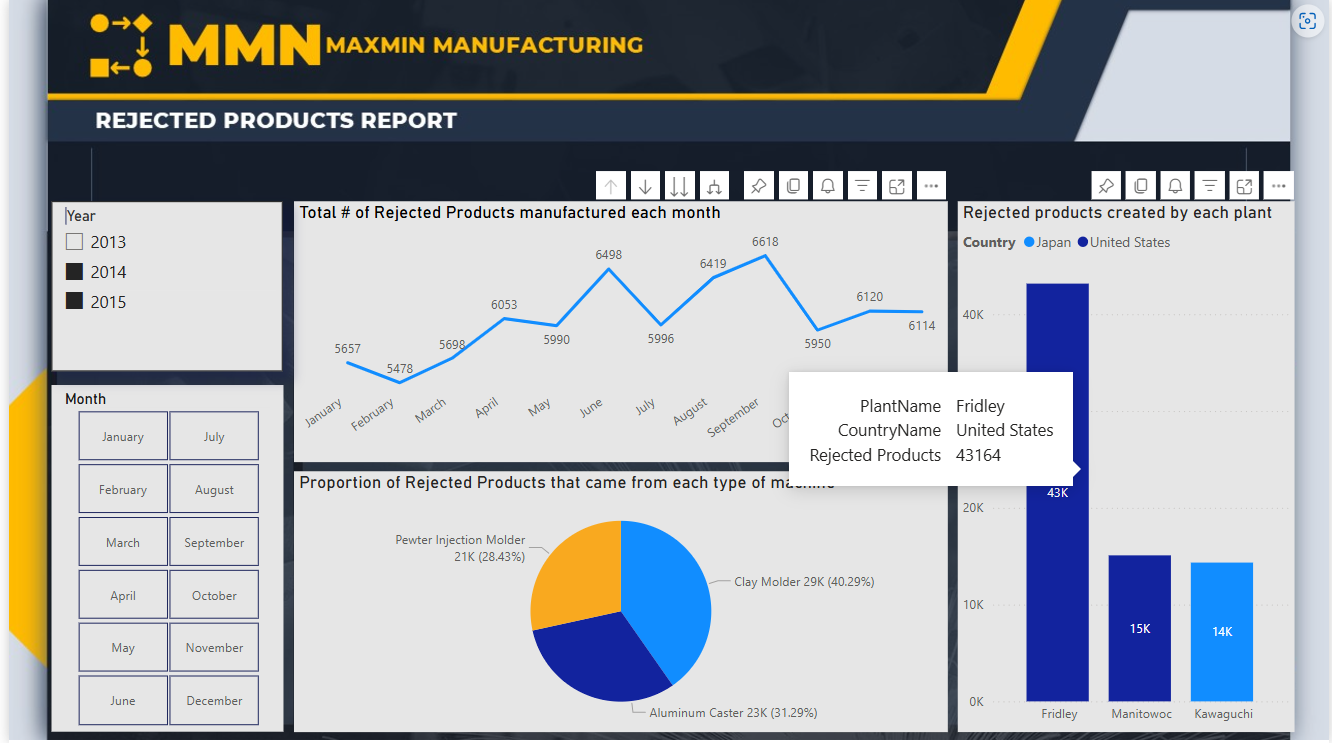

The dashboard page shown, as its layout file describes it:
{"tool":"powerbi","page":{"name":"Page 1","canvas":[1280,720],"ordinal":0},"visuals":[{"type":"columnChart","title":"Rejected products created by each plant ","fields":{"Category":["DimPlant.PlantName"],"Y":["Sum(FactManufacturing.RejectedProducts)"],"Series":["DimCountry.CountryName"]},"box":[919.4,194.9,326.6,514.6],"z":0},{"type":"lineChart","title":"Total # of Rejected Products manufactured each month","fields":{"Y":["Sum(FactManufacturing.RejectedProducts)"],"Category":["Date.Year Hierarchy.Month Name","Date.Year Hierarchy.Day"]},"box":[275.8,194.9,634,252.5],"z":1000},{"type":"slicer","fields":{"Values":["Date.Year Hierarchy.Month Name"]},"box":[41.2,373.2,225,336.2],"z":2000},{"type":"slicer","fields":{"Values":["Date.Year Hierarchy.Year"]},"box":[41.2,194.9,223.7,164.7],"z":3000},{"type":"pieChart","title":"Proportion of Rejected Products that came from each type of machine","fields":{"Category":["DimMachineType.MachineType"],"Y":["Sum(FactManufacturing.RejectedProducts)"]},"box":[275.8,456.9,634,252.5],"z":4000}]}

Visuals, with their boxes on the page's 1280x720 design canvas (x1, y1, x2, y2). These are canvas units, not pixel positions in the 1332x743 screenshot, which may show the page scaled, cropped or inside an application window:
"Rejected products created by each plant " columnChart: 919,195,1246,710
"Total # of Rejected Products manufactured each month" lineChart: 276,195,910,447
slicer - Date.Year Hierarchy.Month Name: 41,373,266,709
slicer - Date.Year Hierarchy.Year: 41,195,265,360
"Proportion of Rejected Products that came from each type of machine" pieChart: 276,457,910,709
